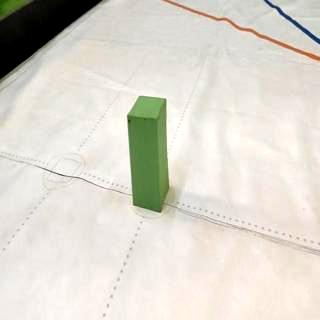greenbox: (127, 96, 169, 213)
